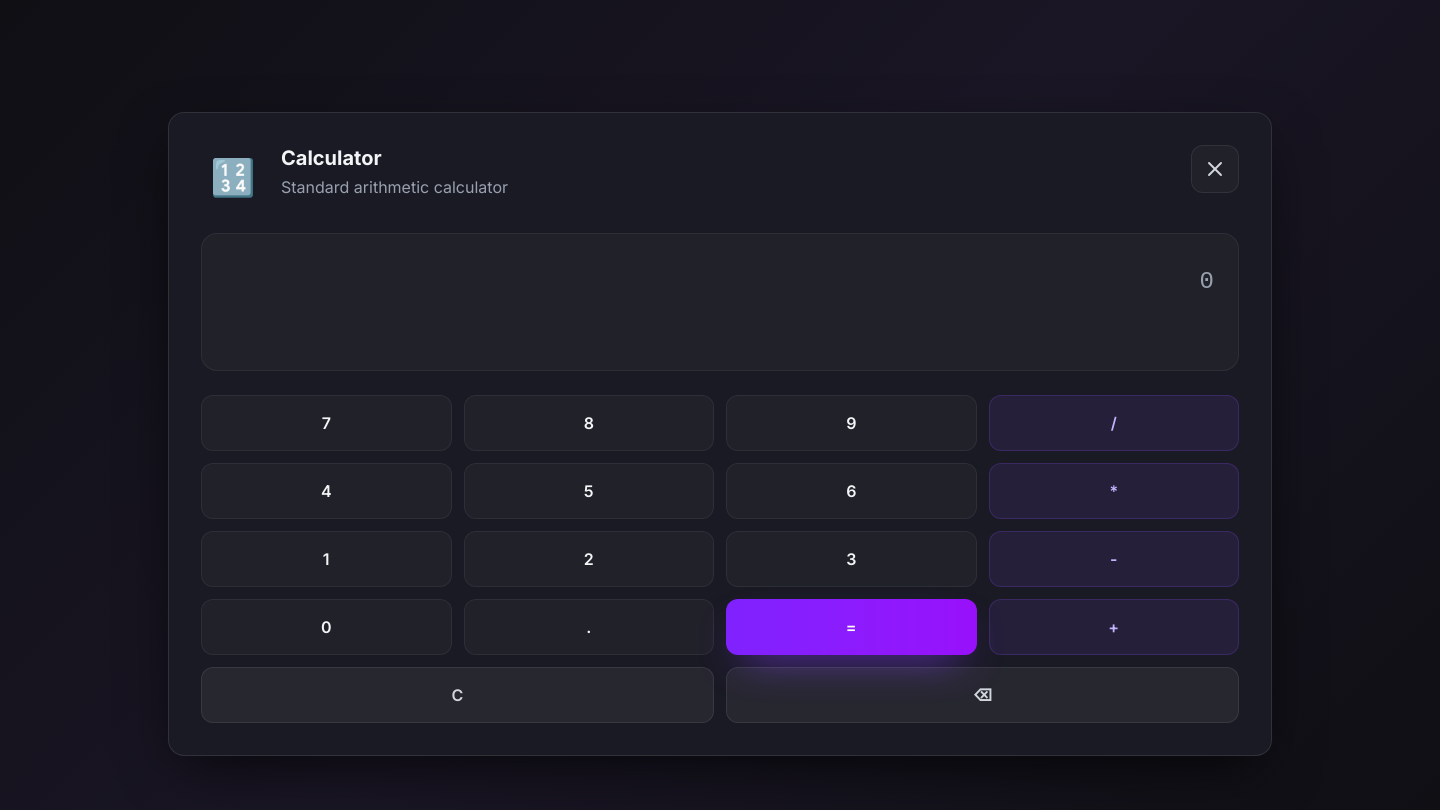
Test: Calculator page › evaluates basic arithmetic operations safely
Step 1. Click the button "2" → x=589, y=559, box [464,531,714,587]
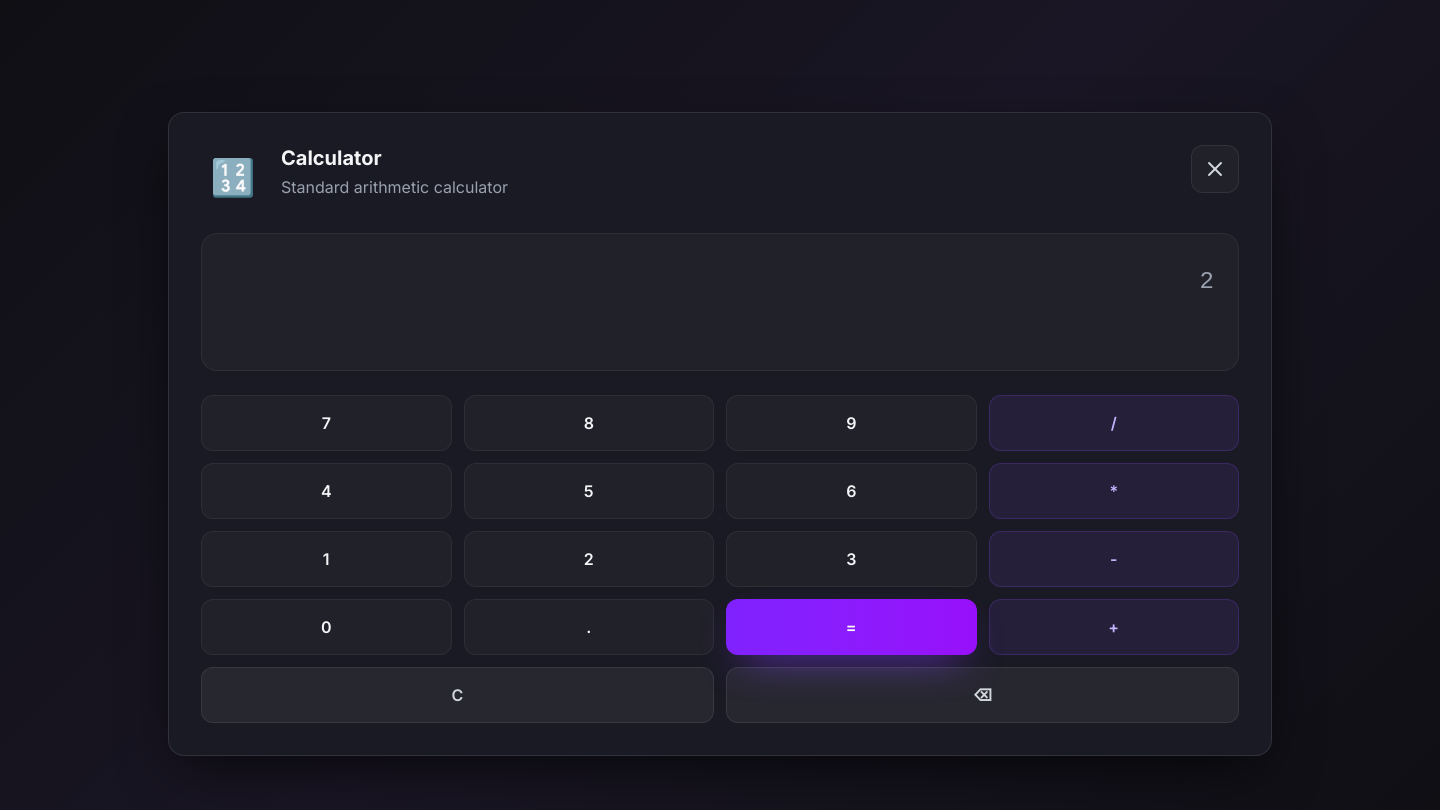
Step 2. Click the button "+" → x=1114, y=627, box [988,599,1239,655]
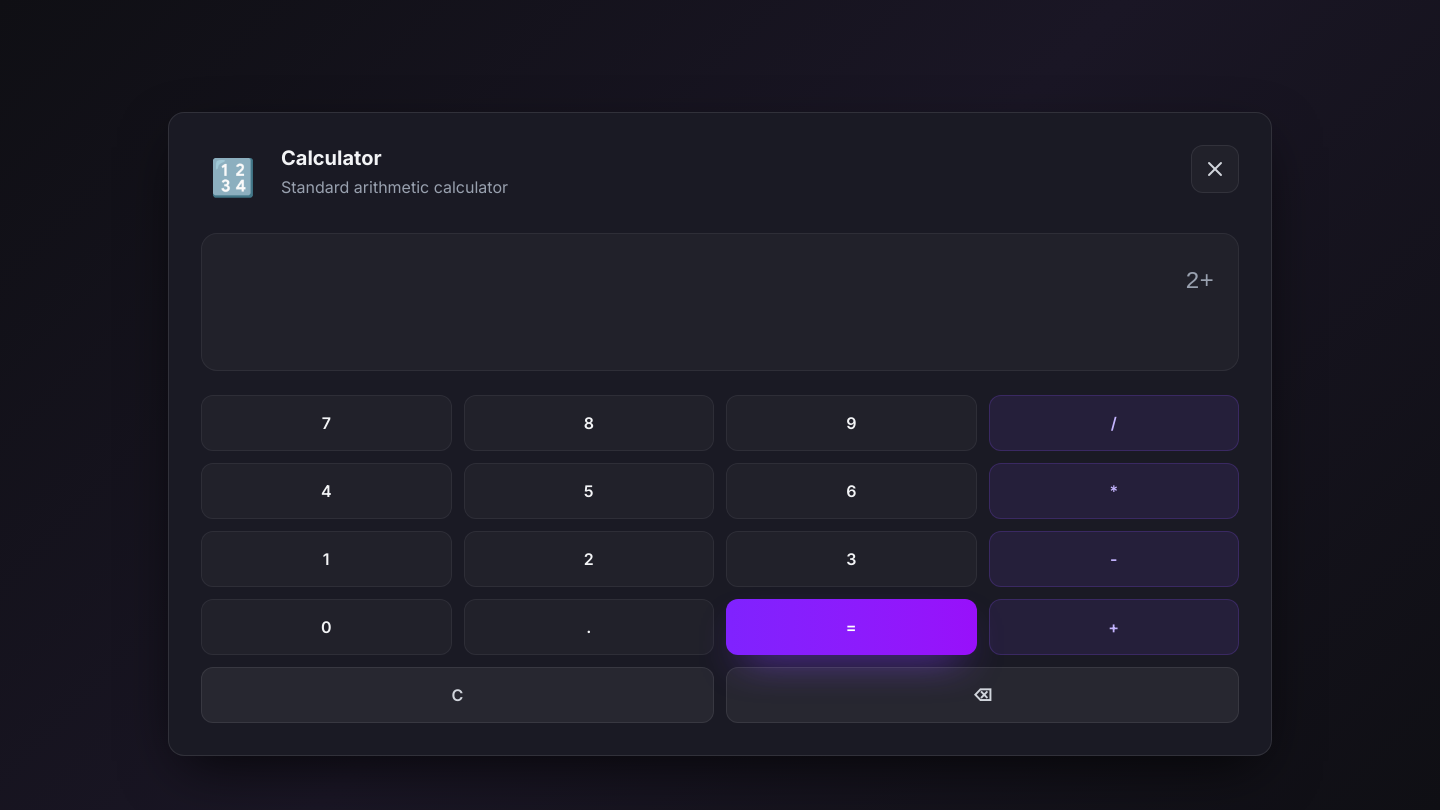
Step 3. Click the button "3" → x=851, y=559, box [726,531,976,587]
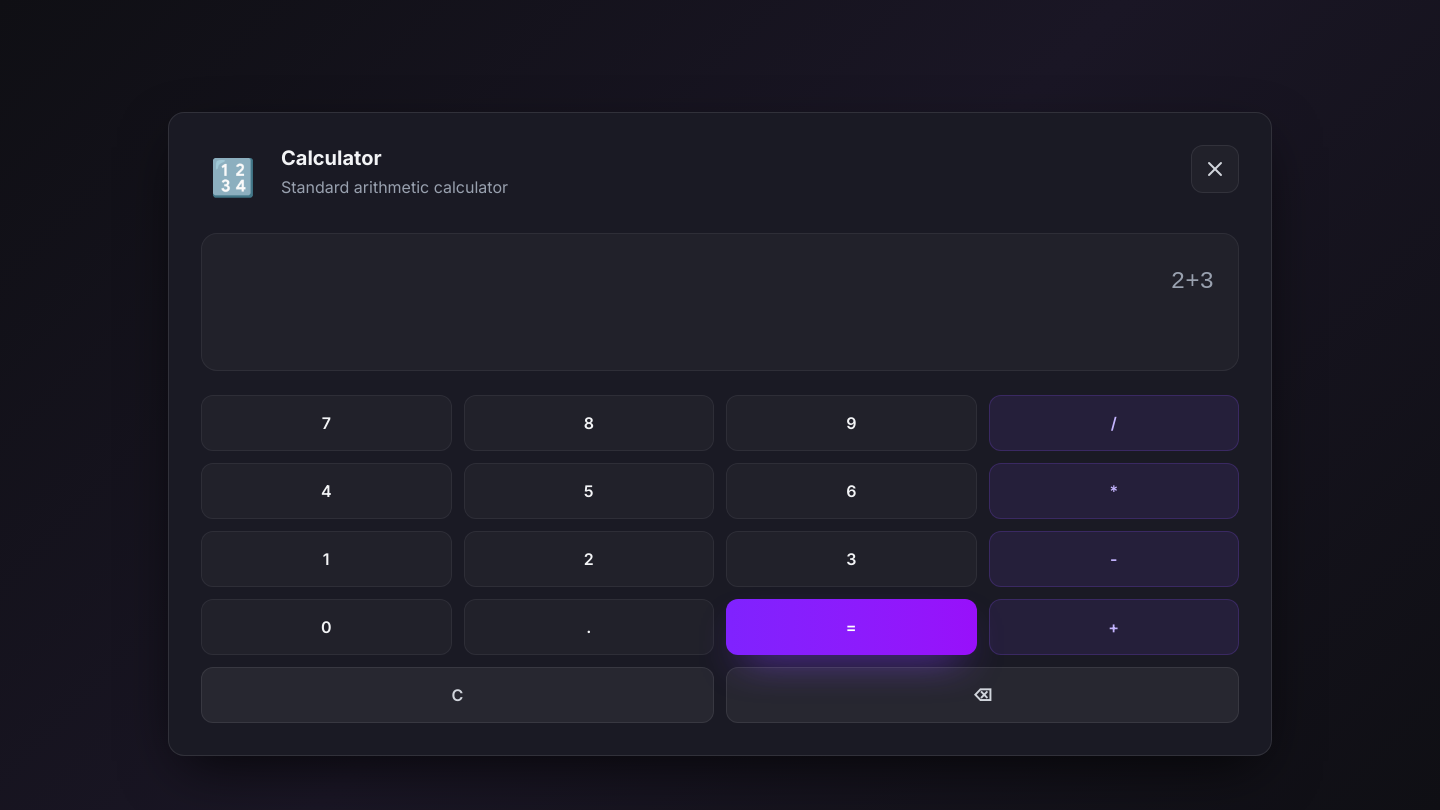
Step 4. Click the button "=" → x=851, y=627, box [726,599,976,655]
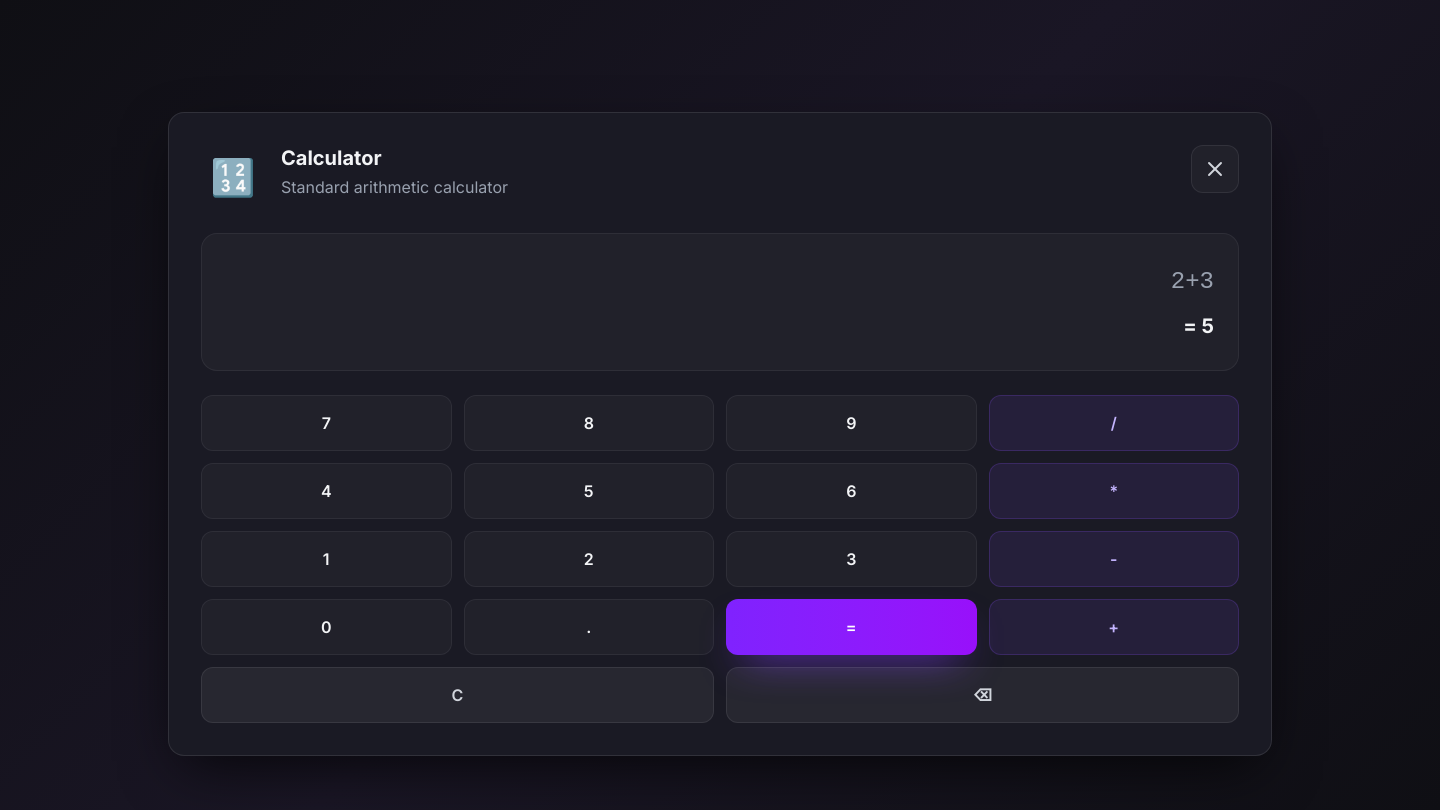
Expected: the text "= 5" is shown, [1183,314,1214,338]
